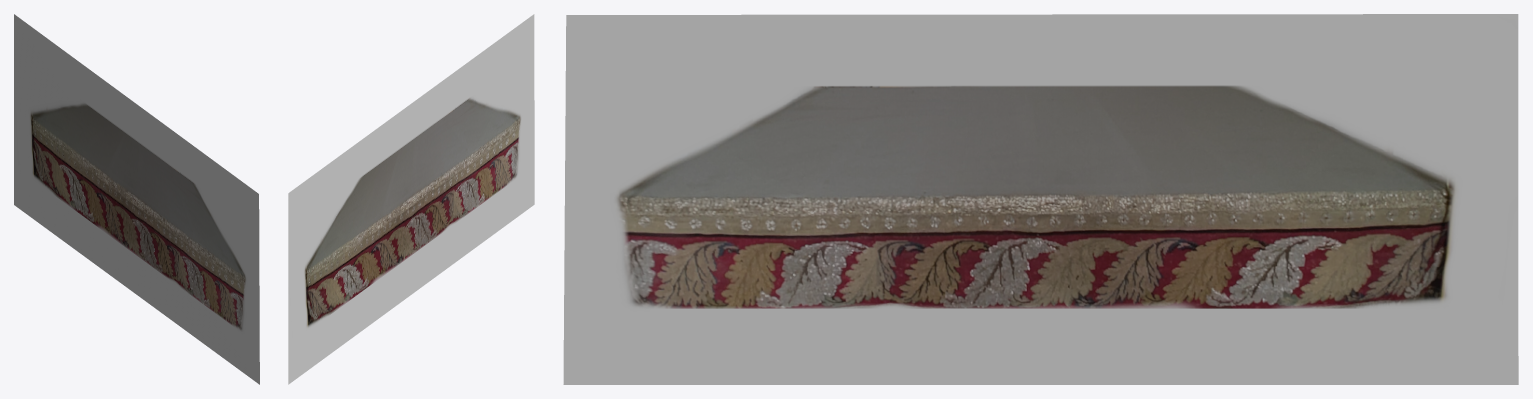
Rendered from 70 - Baldachim procesyjny.glb.
3 views of the same model, side by side, from view 1: azimuth 30°, elevation 25°; view 2: azimuth 150°, elevation 25°; view 3: azimuth 270°, elevation 25° (orthographic). The views are drawn at different scales.
Visible parts, largest first — view 1: Plane; view 2: Plane; view 3: Plane.
Boxes of the visible parts, <box> form: Plane: <box>14,14,259,384</box>; Plane: <box>288,14,534,384</box>; Plane: <box>563,14,1518,384</box>.
Bounding box in the file's own units: 0.00822 × 12 × 28.
Materials: 1 (1 with a texture image).
